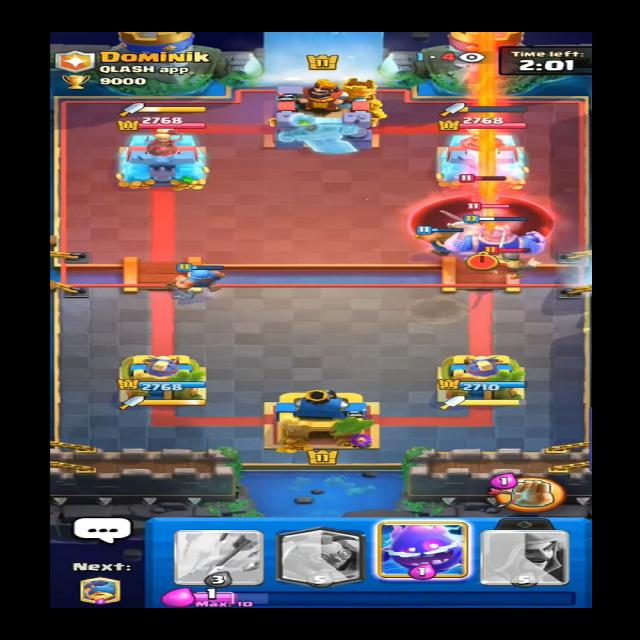guardian: (442, 202, 526, 238)
knight: (484, 242, 546, 279)
little-prince: (454, 172, 508, 207)
